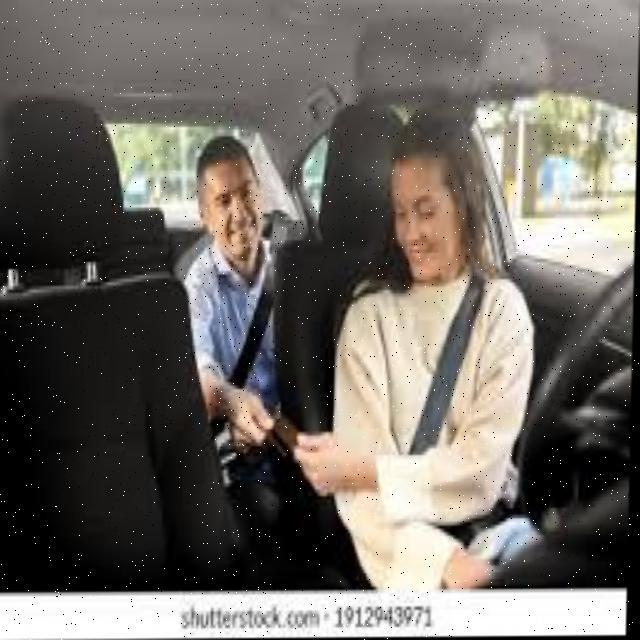seatbelt: (334, 256, 528, 522), (192, 232, 294, 454)
